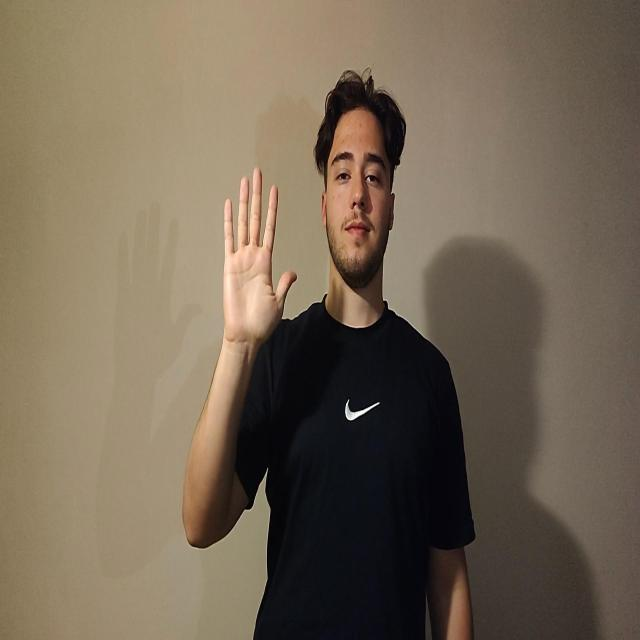hello: (222, 166, 297, 348)
